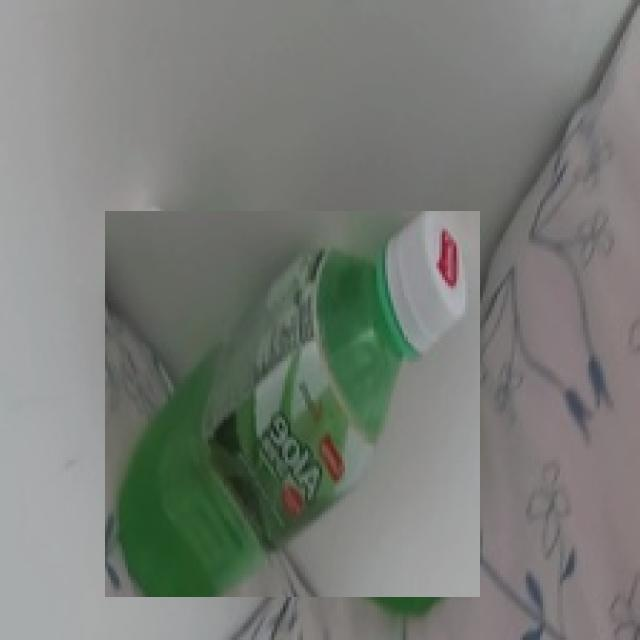bottle: (105, 211, 480, 597)
cap: (375, 212, 482, 363)
label: (194, 234, 386, 546)
